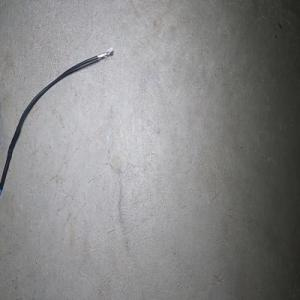Wire: (0, 46, 113, 197)
